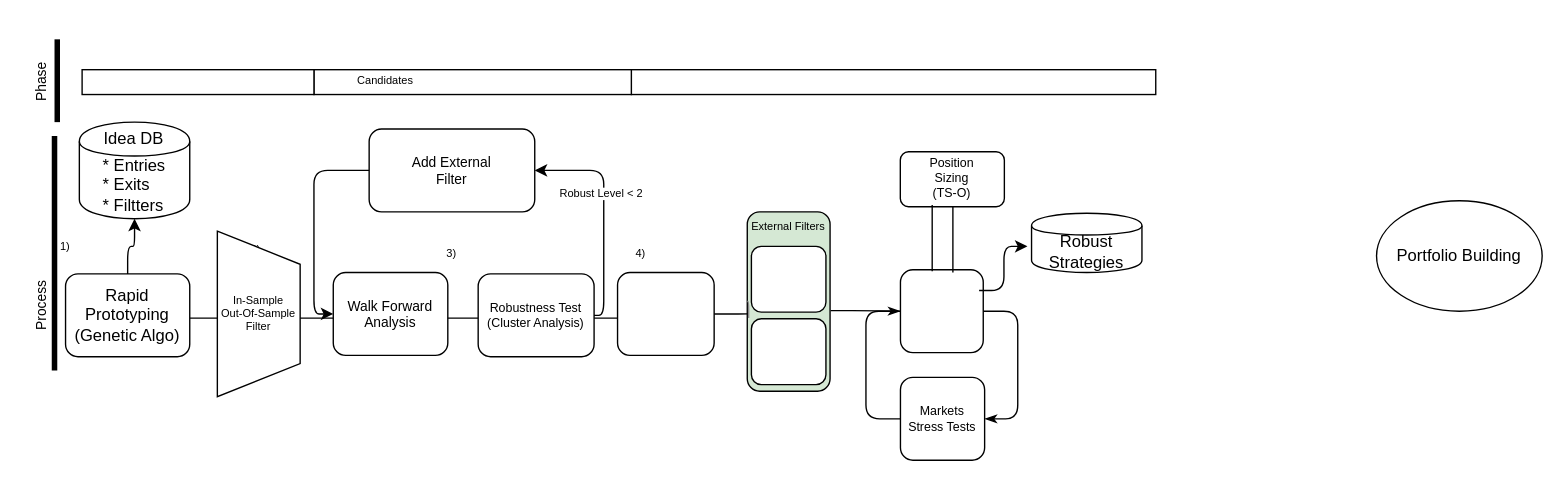
Some shapes in this 1566 by 484 pixel diagram are drawn without their labels. Each missing label, with the centre of its shape:
DOW Filter (TS-O): point 788,351
Market Internals (TS-O): point 788,278
OOS Curve w/ xact costs: point 665,313
Out Test Queue: point 941,310
Prototypes: point 197,81
Strategies: point 893,81
